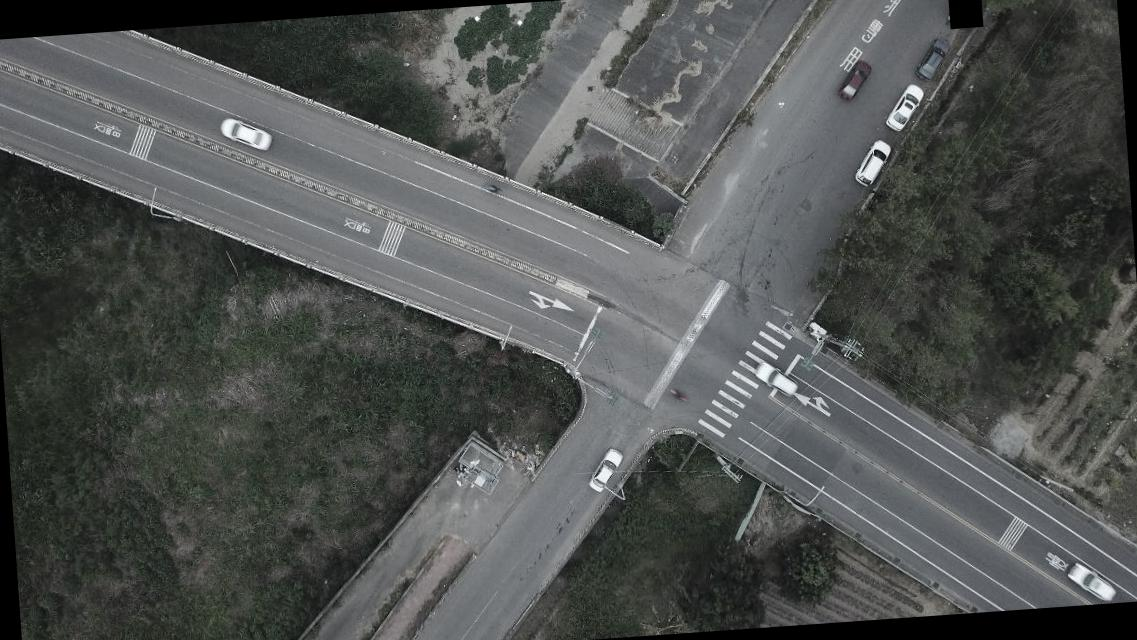vehicle: (217, 113, 276, 156), (1066, 558, 1119, 604), (852, 137, 894, 190), (882, 82, 924, 132), (754, 360, 800, 400), (913, 35, 953, 80), (586, 446, 624, 493), (835, 60, 874, 104)
